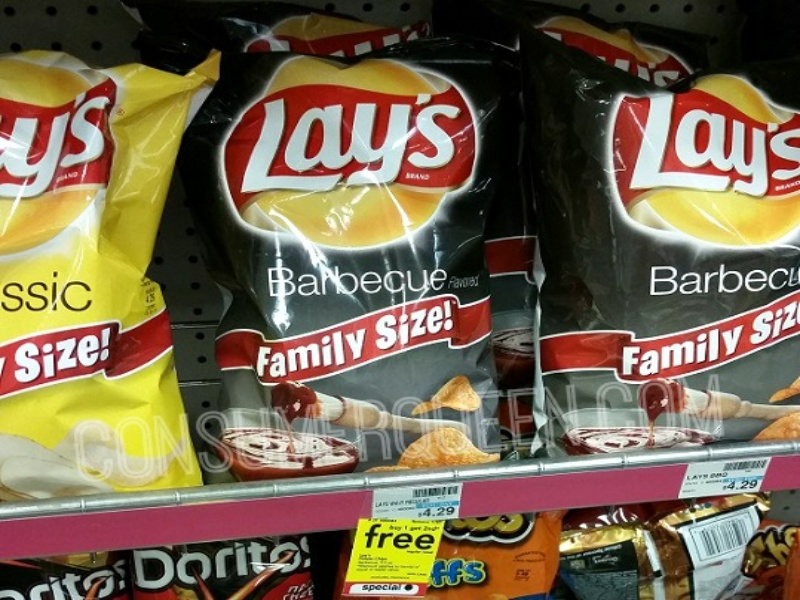lays-large: (237, 21, 516, 481), (531, 17, 800, 436), (1, 59, 228, 496)
